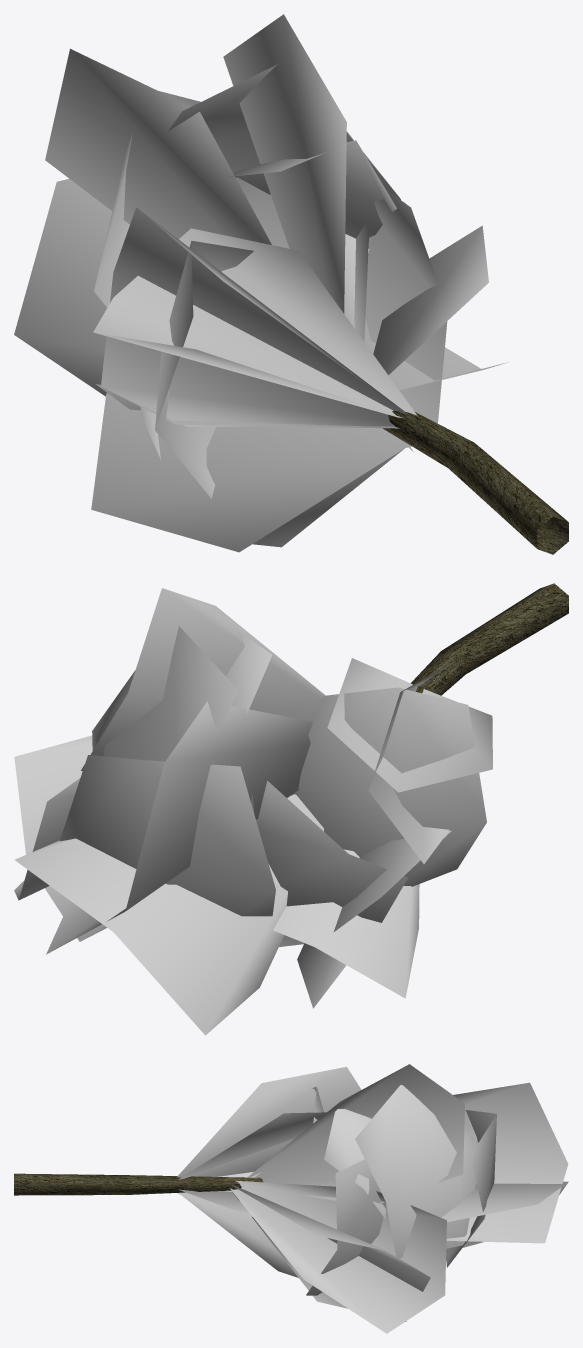
Rendered from MEP_Tree_04_a.fbx.
3 renders of one model, top to bottom at view 1: azimuth 30°, elevation 25°; view 2: azimuth 150°, elevation 25°; view 3: azimuth 270°, elevation 25°, orthographic. The views are drawn at different scales.
Visible parts, largest first — view 1: MEP_Leafs_04_a, MEP_Bark_04_a; view 2: MEP_Leafs_04_a, MEP_Bark_04_a; view 3: MEP_Leafs_04_a, MEP_Bark_04_a.
Part boxes in pixels (x1,y1,x2,y2): MEP_Leafs_04_a: [14, 14, 507, 552]; MEP_Bark_04_a: [383, 410, 568, 554]; MEP_Leafs_04_a: [14, 588, 492, 1035]; MEP_Bark_04_a: [291, 583, 568, 795]; MEP_Leafs_04_a: [177, 1064, 568, 1333]; MEP_Bark_04_a: [14, 1173, 263, 1195].
Bounding box in the file's own units: 5.33 × 5.19 × 9.89.
